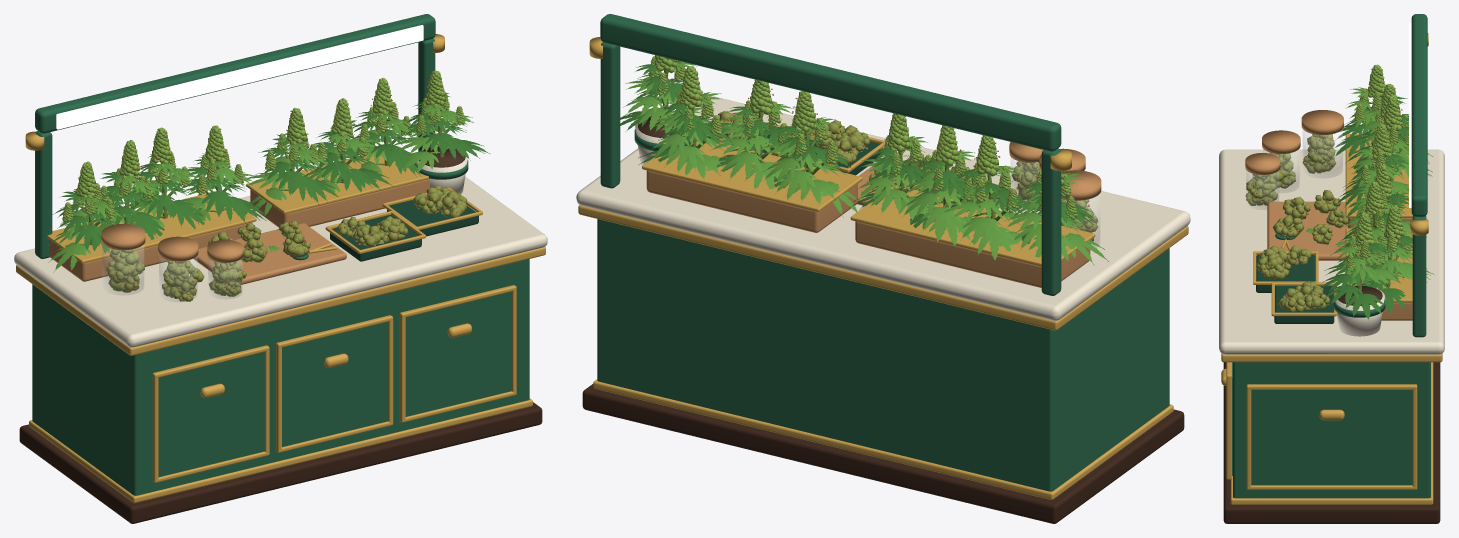
Rendered from harvest_bench.glb.
3 views of the same model, side by side, from view 1: azimuth 30°, elevation 25°; view 2: azimuth 150°, elevation 25°; view 3: azimuth 270°, elevation 25° (orthographic). The views are drawn at different scales.
Visible parts, largest first — view 1: Body, Top, Plinth, Drawer2, Drawer1, Drawer0, LightPanel, LightBar, TopBand, BaseBrass, Board, TroughRim1 (+25 smaller); view 2: Body, Top, Plinth, LightBar, TopBand, BaseBrass, Trough0, Trough1, TroughRim1, TroughRim0, Post1, Post-1 (+8 smaller); view 3: Top, EndDrawer, Body, Plinth, LightBar, Board, TopBand, BaseBrass, Jar0Glass, Post1, TroughRim0, Tray1 (+43 smaller).
Part boxes in pixels (bbox=[...]): Body: bbox=[32, 259, 529, 495]; Top: bbox=[14, 176, 547, 347]; Plinth: bbox=[19, 402, 542, 523]; Drawer2: bbox=[405, 291, 511, 416]; Drawer1: bbox=[282, 322, 388, 446]; Drawer0: bbox=[158, 352, 264, 477]; LightPanel: bbox=[56, 25, 423, 129]; LightBar: bbox=[35, 14, 435, 133]; TopBand: bbox=[16, 247, 545, 355]; BaseBrass: bbox=[29, 398, 532, 503]; Board: bbox=[193, 223, 346, 284]; TroughRim1: bbox=[246, 146, 429, 214]; Body: bbox=[597, 219, 1169, 491]; Top: bbox=[576, 96, 1190, 320]; Plinth: bbox=[582, 384, 1184, 523]; LightBar: bbox=[600, 14, 1061, 151]; TopBand: bbox=[578, 205, 1188, 330]; BaseBrass: bbox=[593, 379, 1173, 499]; Trough0: bbox=[855, 221, 1090, 287]; Trough1: bbox=[646, 170, 857, 232]; TroughRim1: bbox=[642, 141, 862, 211]; TroughRim0: bbox=[850, 185, 1095, 266]; Post1: bbox=[600, 42, 620, 188]; Post-1: bbox=[1041, 148, 1061, 295]; Top: bbox=[1219, 149, 1444, 354]; EndDrawer: bbox=[1251, 390, 1412, 485]; Body: bbox=[1233, 362, 1430, 498]; Plinth: bbox=[1223, 362, 1440, 523]; LightBar: bbox=[1411, 14, 1427, 216]; Board: bbox=[1267, 201, 1347, 260]; TopBand: bbox=[1221, 353, 1442, 362]; BaseBrass: bbox=[1230, 362, 1433, 504]; Jar0Glass: bbox=[1303, 129, 1342, 178]; Post1: bbox=[1412, 216, 1426, 337]; TroughRim0: bbox=[1345, 133, 1412, 217]; Tray1: bbox=[1274, 286, 1334, 323].
Bounding box in the file's own units: 2.07 × 1.55 × 0.98.
